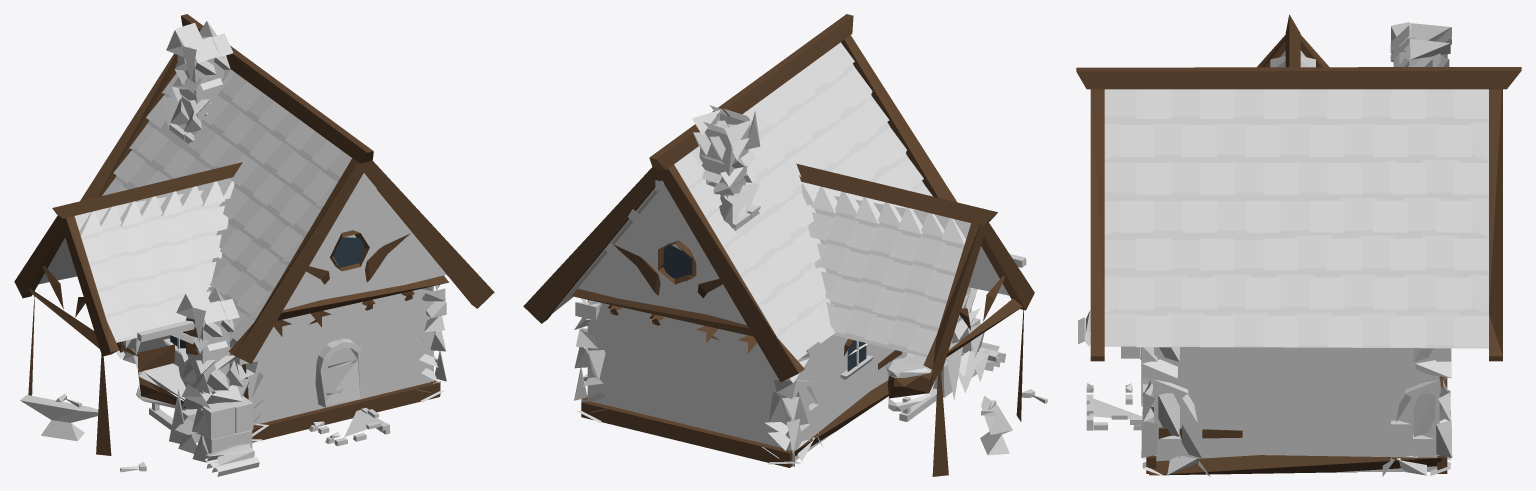
Rendered from mv_smith.glb.
3 views of the same model, side by side, from view 1: azimuth 30°, elevation 25°; view 2: azimuth 150°, elevation 25°; view 3: azimuth 270°, elevation 25° (orthographic). The views are drawn at different scales.
Visible parts, largest first — view 1: S_Blacksmith; view 2: S_Blacksmith; view 3: S_Blacksmith.
Boxes of the visible parts, x1,y1,x2,y2 form: S_Blacksmith: [14, 14, 494, 476]; S_Blacksmith: [523, 14, 1047, 476]; S_Blacksmith: [1076, 14, 1521, 476].
Size of the model in its own units: 3.89 by 3 by 3.28.
